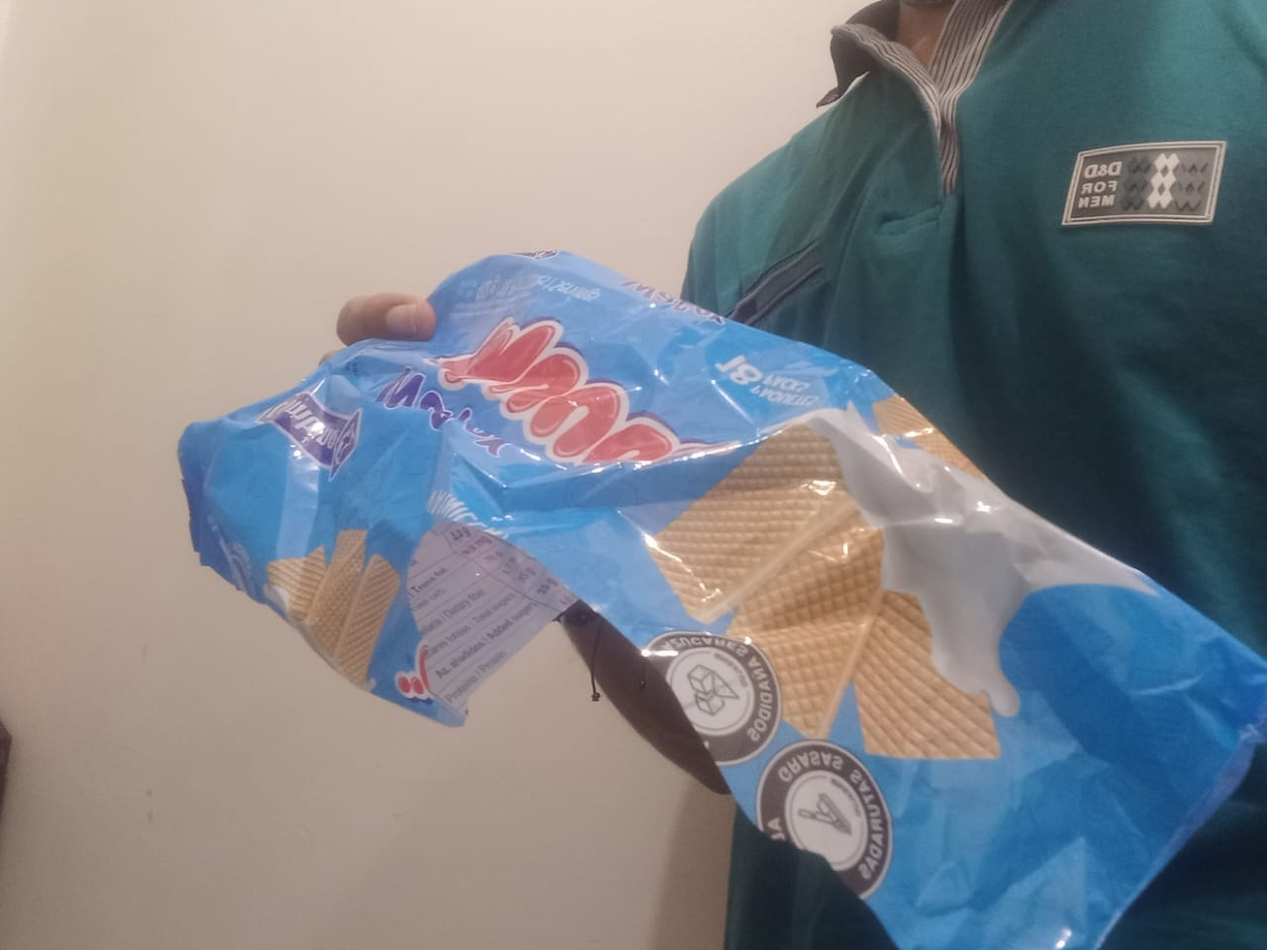Ordinario: (179, 250, 1267, 950)
